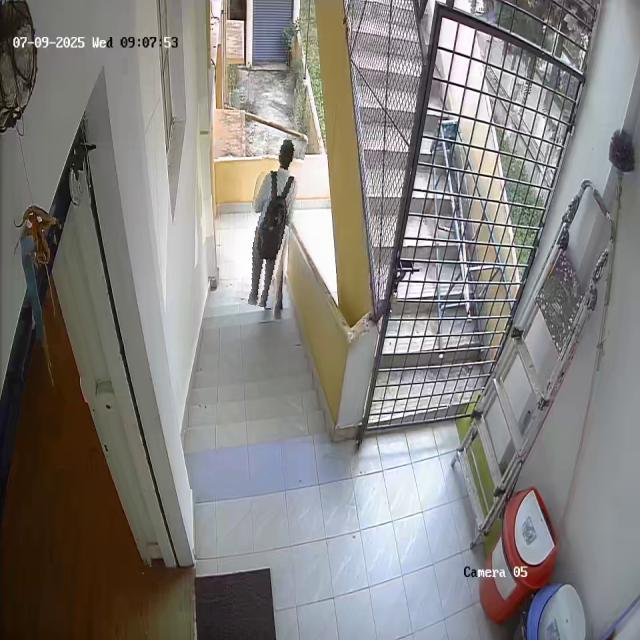person: (242, 136, 300, 308)
